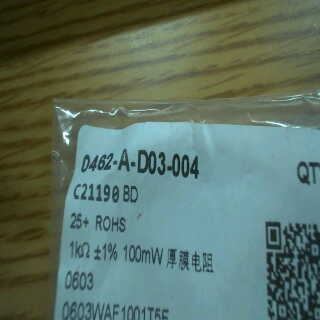1kR: (64, 234, 93, 264)
